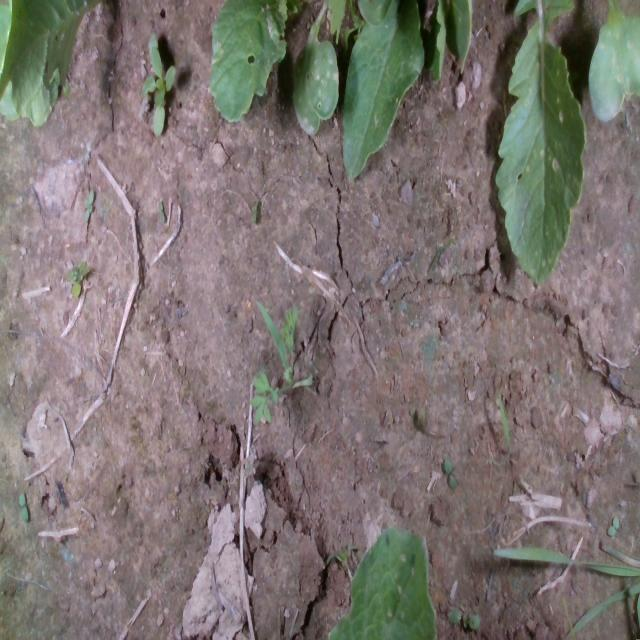weed: (62, 258, 90, 298), (447, 604, 480, 630), (444, 455, 456, 490), (83, 187, 93, 222), (18, 490, 28, 522), (606, 514, 619, 536), (158, 200, 165, 223)
